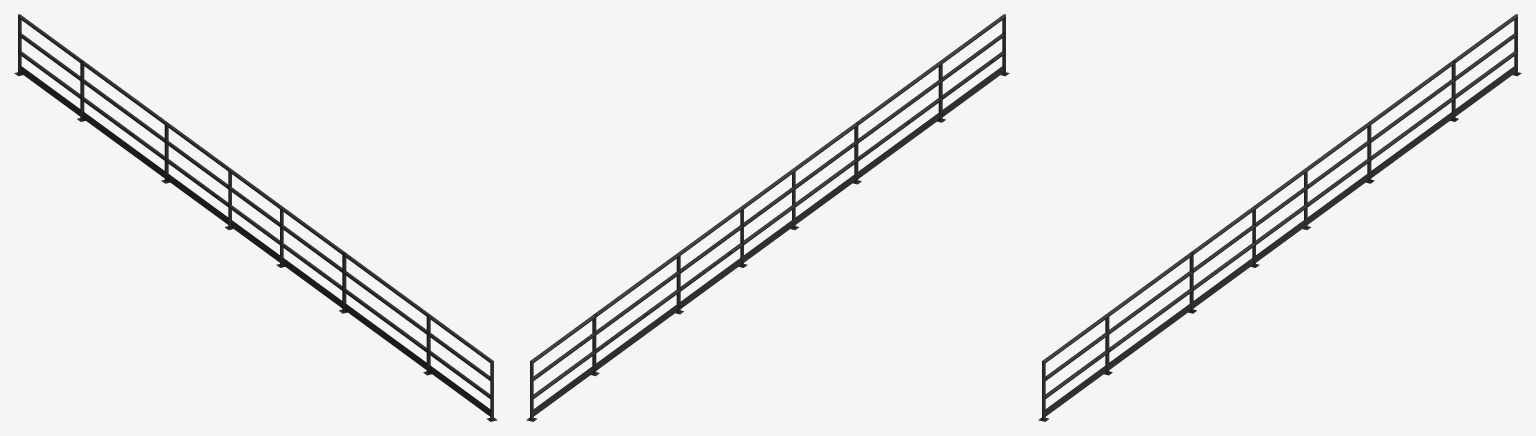
The picture shows the model from 3 angles, left to right: view 1: azimuth 30°, elevation 25°; view 2: azimuth 150°, elevation 25°; view 3: azimuth 330°, elevation 25°; orthographic projection.
Parts seen in each view (by area): view 1: body0_model0_lod0_mesh0; view 2: body0_model0_lod0_mesh0; view 3: body0_model0_lod0_mesh0.
Part boxes in pixels (x1=…): body0_model0_lod0_mesh0: x1=14, y1=14, x2=497, y2=421; body0_model0_lod0_mesh0: x1=526, y1=14, x2=1009, y2=421; body0_model0_lod0_mesh0: x1=1038, y1=14, x2=1521, y2=421.
Bounding box in the file's own units: 3.98 × 32.99 × 480.
Materials: 1 (1 with a texture image).
